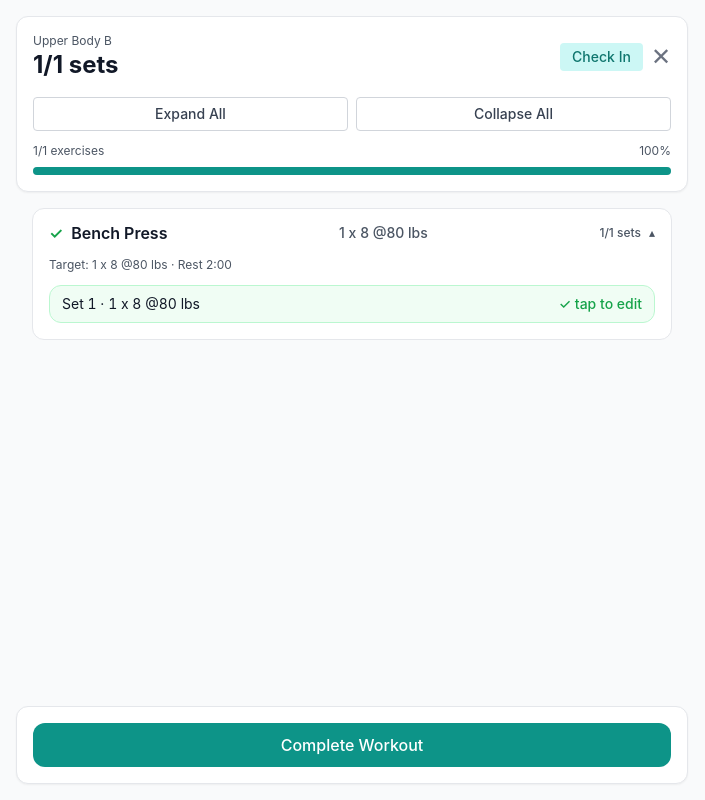
Test: WorkoutTrackingPage › lets a logged set be corrected by tapping it
Click the button with aria-label "set 1 logged, tap to edit".
click(154, 304)  # box x1=49 y1=285 x2=655 y2=323
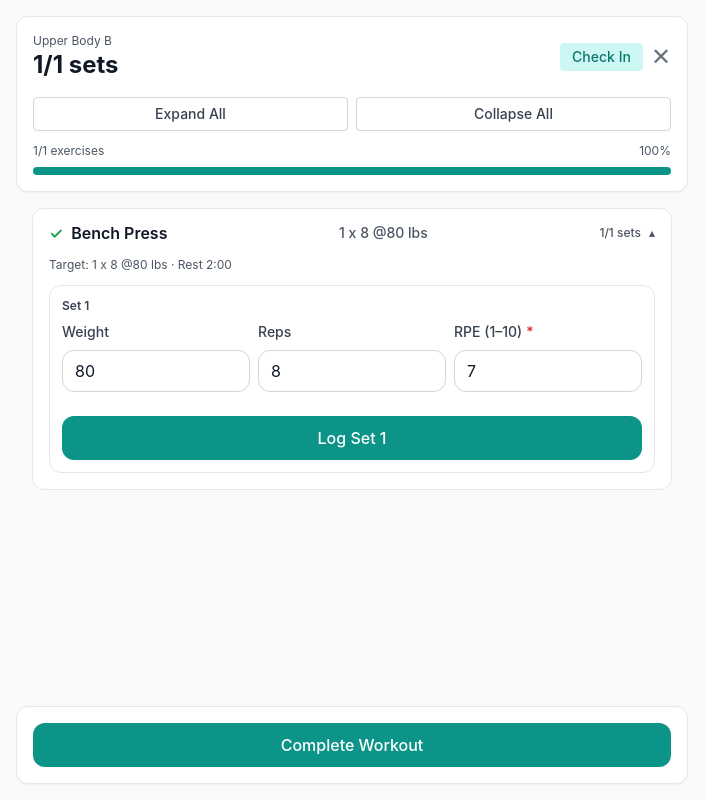
Expected: the number field labelled "RPE (1–10)*" holds "7"
Replace the text in the number field labelled "RPE (1–10)*" with "9" at (548, 371), box x1=454 y1=350 x2=642 y2=392
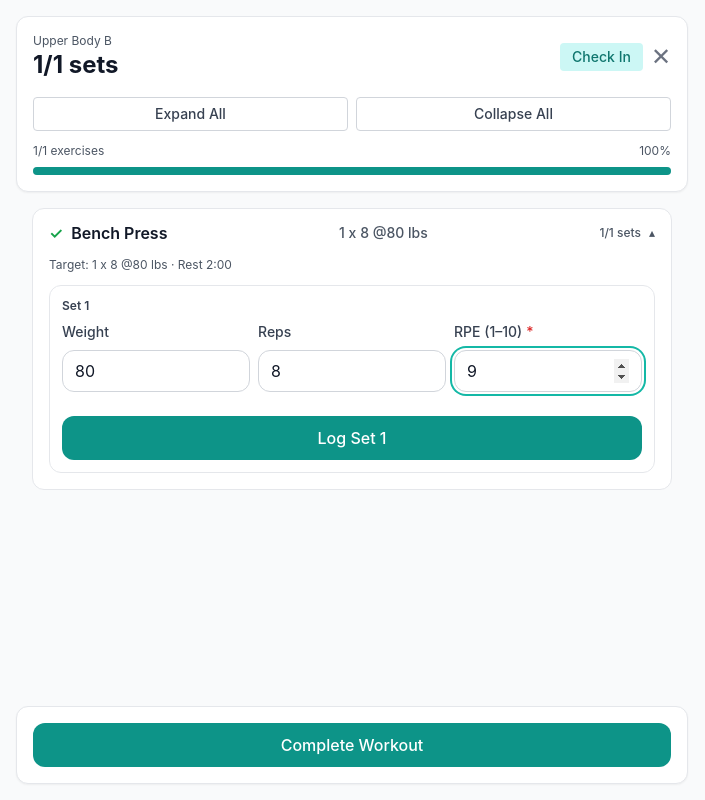
Click the button "Log Set 1".
click(352, 438)  # box x1=62 y1=416 x2=642 y2=460
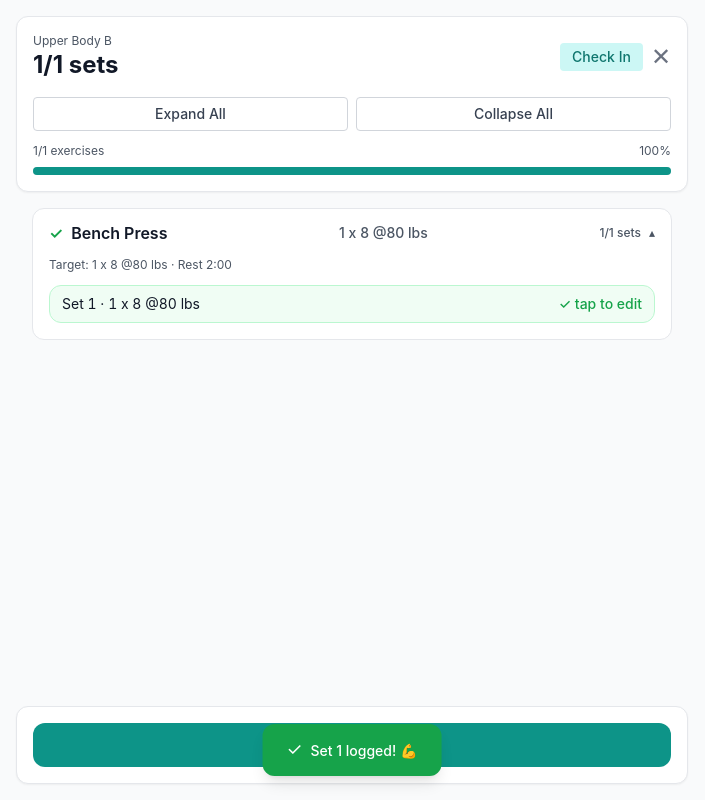
Expected: the button with aria-label "set 1 logged, tap to edit" reads "Set 1 · 1 x 8 @80 lbs ✓ tap to edit", x1=49 y1=285 x2=655 y2=323
